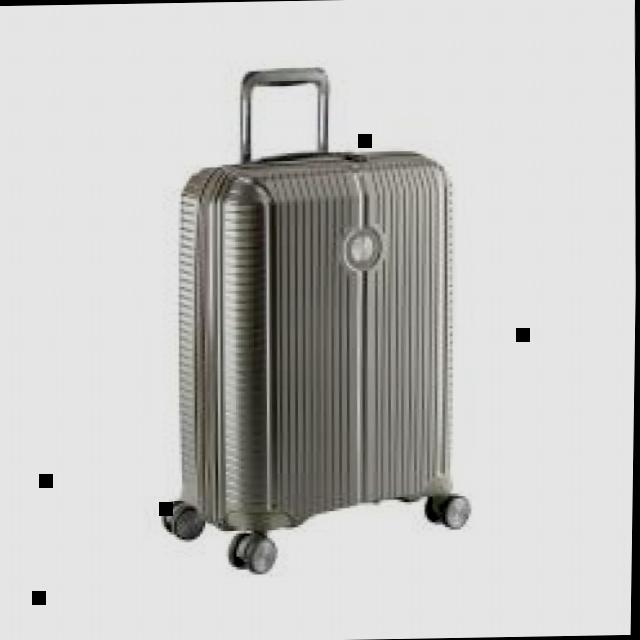luggage: (152, 139, 485, 581)
